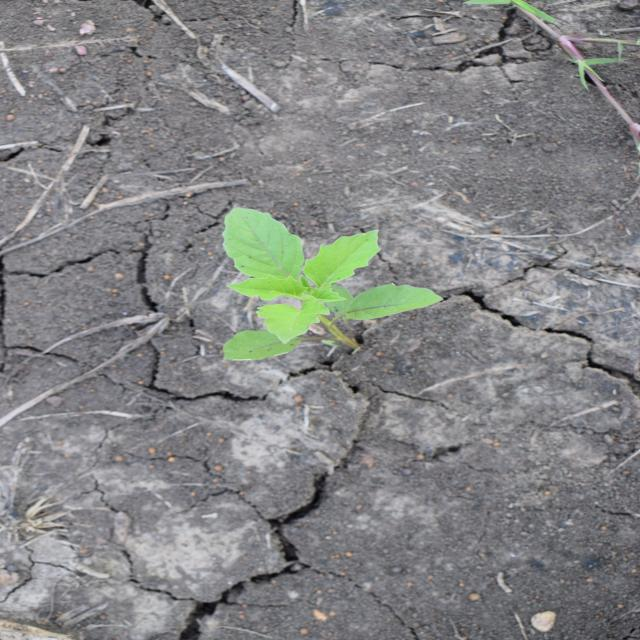CutleafGroundcherry: (220, 205, 449, 364)
